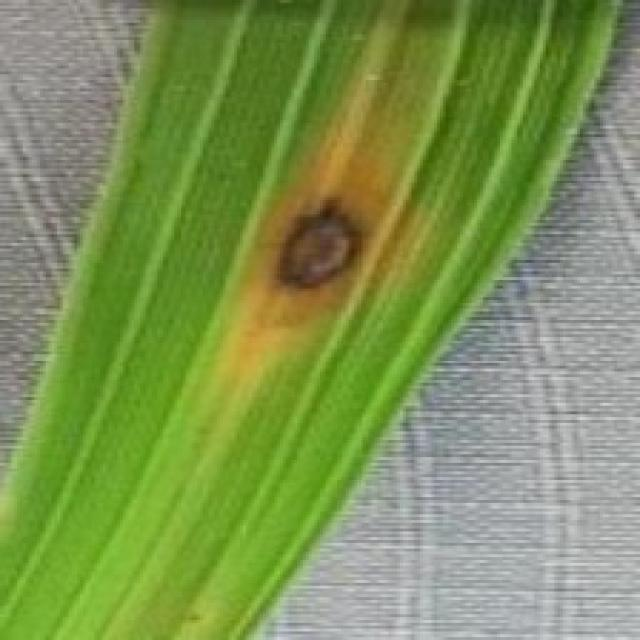Rice___Brown_Spot: (0, 0, 623, 637)
